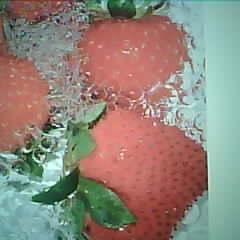straw-ripe: (72, 109, 207, 240)
